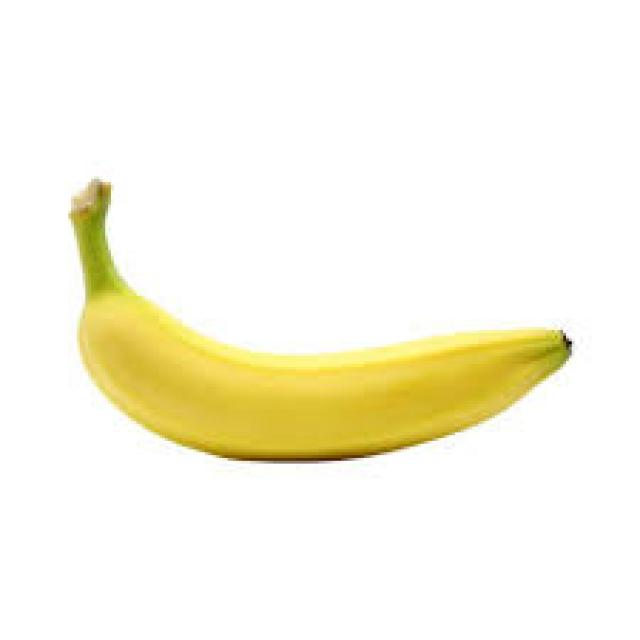banana: (65, 173, 572, 461)
